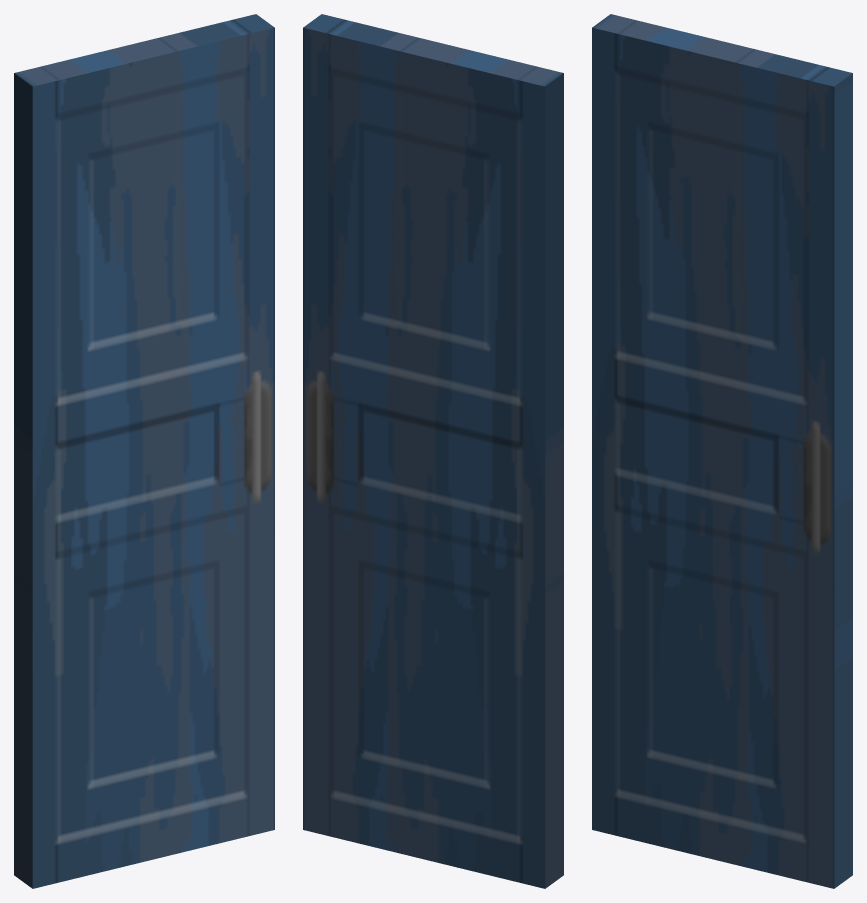
File: STFdoor.glb
3 renders of one model, left to right at view 1: azimuth 30°, elevation 25°; view 2: azimuth 150°, elevation 25°; view 3: azimuth 330°, elevation 25°, orthographic.
Visible parts, largest first — view 1: STFdoor; view 2: STFdoor; view 3: STFdoor.
Part boxes in pixels (bbox=[...]): STFdoor: bbox=[14, 14, 274, 888]; STFdoor: bbox=[303, 14, 563, 888]; STFdoor: bbox=[592, 14, 852, 888].
Size of the model in its own units: 0.6 by 1.9 by 0.08.
Materials: 1 (1 with a texture image).
